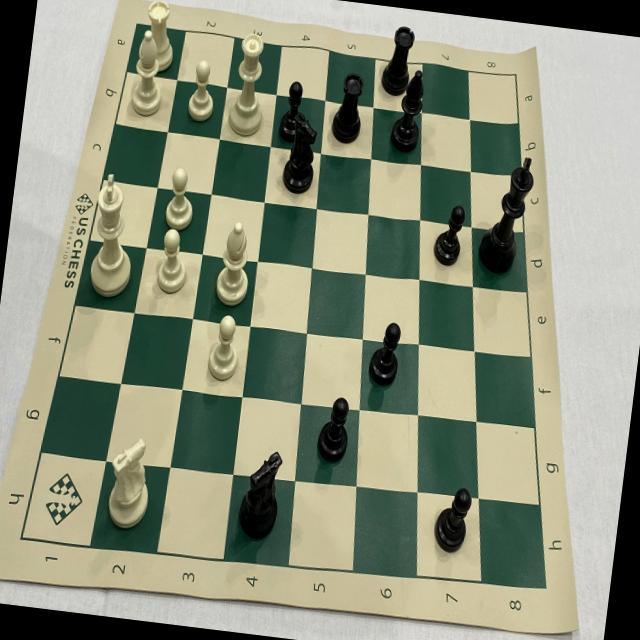black-bishop: (388, 65, 431, 158)
black-king: (472, 145, 542, 287)
black-knight: (230, 441, 291, 548), (276, 108, 326, 200)
black-pawn: (428, 477, 479, 558), (312, 388, 358, 468), (363, 316, 406, 392), (428, 200, 469, 272), (274, 74, 312, 147)
black-rook: (324, 61, 372, 150), (376, 18, 420, 104)
white-bishop: (208, 212, 262, 313), (122, 25, 172, 123)
white-king: (77, 159, 151, 308)
white-knight: (95, 424, 162, 538)
white-pawn: (200, 309, 248, 390), (148, 221, 194, 302), (182, 50, 222, 132), (157, 162, 201, 236)
white-queen: (221, 23, 278, 144)
white-rook: (133, 0, 187, 77)
